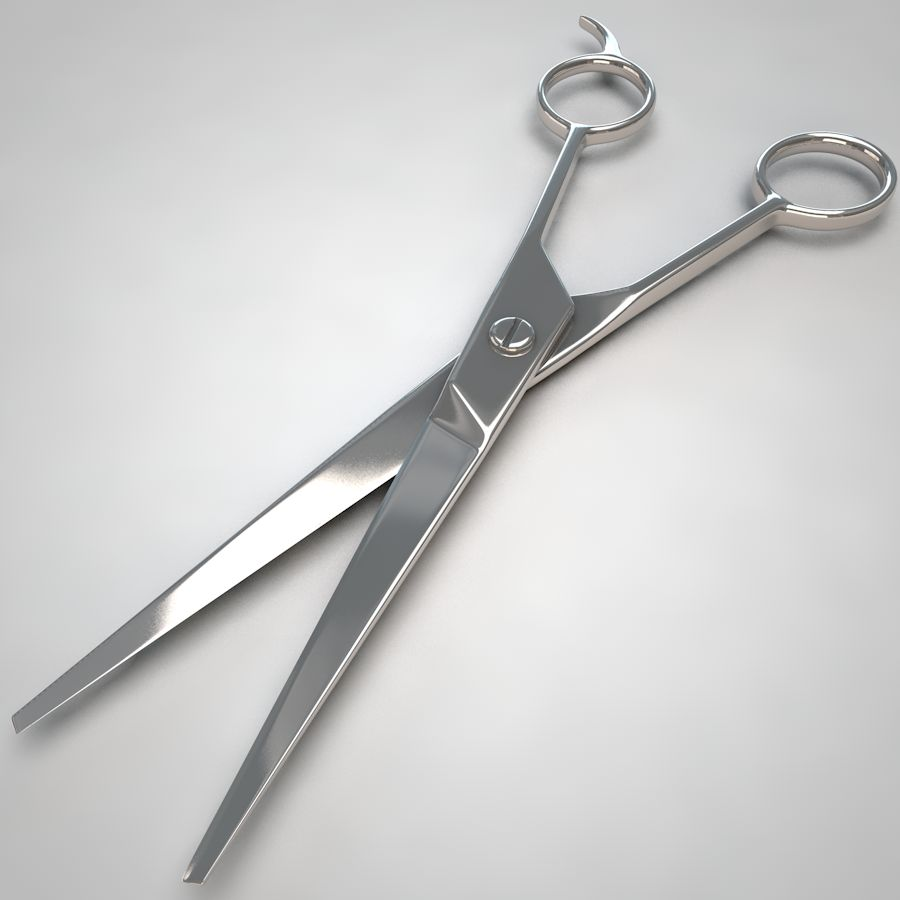scissors: (11, 7, 897, 896)
